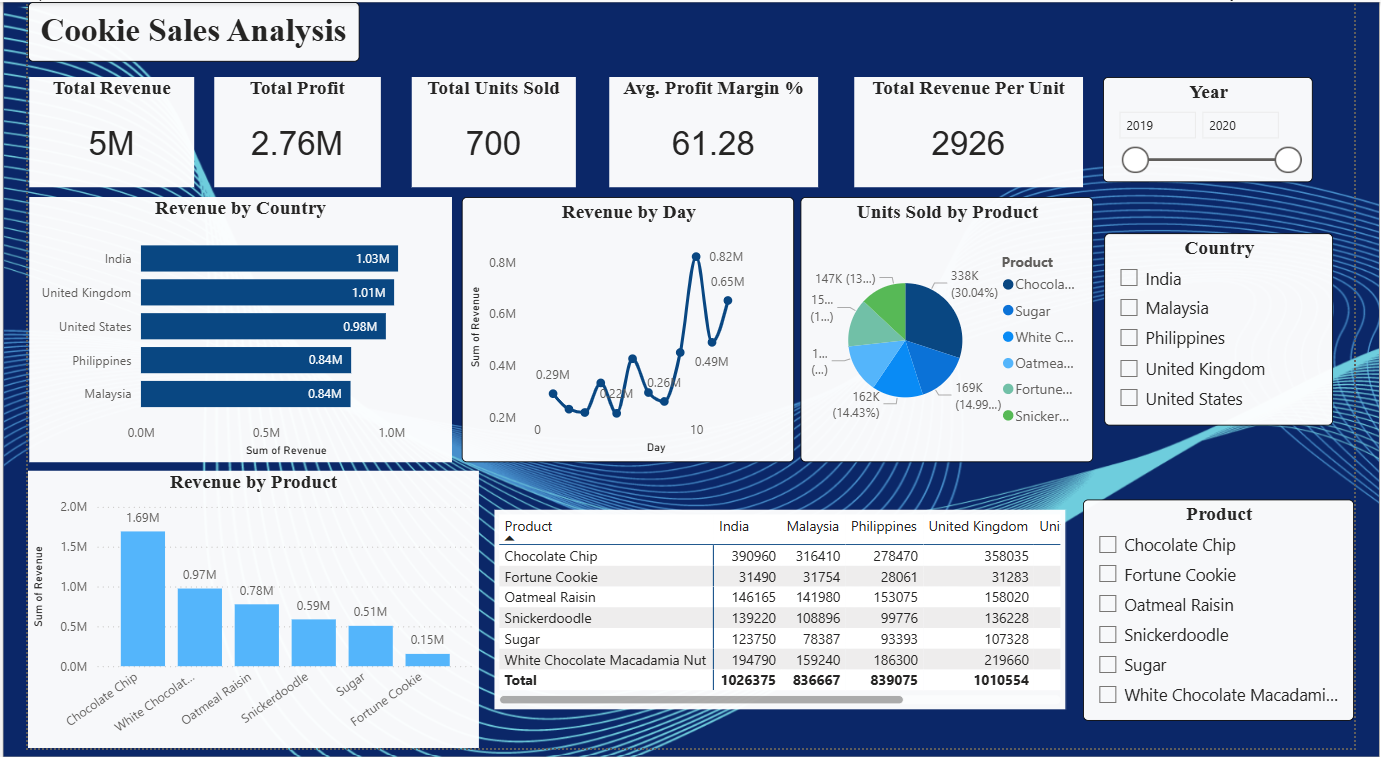

Layout of this report page (visuals, bound fields, positions):
{"tool":"powerbi","page":{"name":"Page 1","canvas":[1280,720],"ordinal":0},"visuals":[{"type":"card","title":"Total Revenue","fields":{"Values":["Sum(Cookie_Sales_Clean.Revenue)"]},"box":[1.2,72.4,159.3,106.2],"z":1},{"type":"textbox","box":[0,0,319.7,57.9],"z":2},{"type":"card","title":"Total Profit","fields":{"Values":["Sum(Cookie_Sales_Clean.Profit)"]},"box":[179.8,72.4,160.5,106.2],"z":3},{"type":"card","title":"Total Units Sold","fields":{"Values":["CountNonNull(Cookie_Sales_Clean.Units Sold)"]},"box":[370.4,72.4,158,106.2],"z":4},{"type":"card","title":"Avg. Profit Margin %","fields":{"Values":["Avg(Cookie_Sales_Clean.Profit_Margin_Pct)"]},"box":[561,72.4,201.5,106.2],"z":5},{"type":"card","title":"Total Revenue Per Unit","fields":{"Values":["Sum(Cookie_Sales_Clean.Revenue_per_Unit)"]},"box":[797.5,72.4,220.8,106.2],"z":6},{"type":"clusteredBarChart","title":"Revenue by Country","fields":{"Category":["Cookie_Sales_Clean.Country"],"Y":["Sum(Cookie_Sales_Clean.Revenue)"]},"box":[1.2,188.2,407.8,255.8],"z":7},{"type":"columnChart","title":"Revenue by Product","fields":{"Category":["Cookie_Sales_Clean.Product"],"Y":["Sum(Cookie_Sales_Clean.Revenue)"]},"box":[0,452.4,435.5,267.8],"z":8},{"type":"slicer","title":"Year","fields":{"Values":["Cookie_Sales_Clean.Year"]},"box":[1037.5,72.4,202.7,101.3],"z":9},{"type":"slicer","title":"Country","fields":{"Values":["Cookie_Sales_Clean.Country"]},"box":[1038.7,223.2,220.8,185.8],"z":10},{"type":"slicer","title":"Product","fields":{"Values":["Cookie_Sales_Clean.Product"]},"box":[1018.2,480.2,261.8,213.5],"z":11},{"type":"pieChart","title":"Units Sold by Product","fields":{"Y":["Sum(Cookie_Sales_Clean.Units Sold)"],"Category":["Cookie_Sales_Clean.Product"]},"box":[745.6,188.2,282.3,255.8],"z":12},{"type":"lineChart","title":"Revenue by Day","fields":{"Y":["Sum(Cookie_Sales_Clean.Revenue)"],"Category":["Cookie_Sales_Clean.Date.Variation.Date Hierarchy.Day"]},"box":[418.6,188.2,320.9,255.8],"z":13},{"type":"pivotTable","fields":{"Columns":["Cookie_Sales_Clean.Country"],"Values":["Sum(Cookie_Sales_Clean.Revenue)"],"Rows":["Cookie_Sales_Clean.Product"]},"box":[450,489.8,551.3,193],"z":14}]}

Visuals, with their boxes in screenshot pixels (x1, y1, x2, y2), scaled from the page's 1280x720 canvas onto the 1381x757 screenshot:
"Total Revenue" card: bbox=[1, 76, 173, 188]
textbox: bbox=[0, 0, 345, 61]
"Total Profit" card: bbox=[194, 76, 367, 188]
"Total Units Sold" card: bbox=[400, 76, 570, 188]
"Avg. Profit Margin %" card: bbox=[605, 76, 823, 188]
"Total Revenue Per Unit" card: bbox=[860, 76, 1099, 188]
"Revenue by Country" clusteredBarChart: bbox=[1, 198, 441, 467]
"Revenue by Product" columnChart: bbox=[0, 476, 470, 756]
"Year" slicer: bbox=[1119, 76, 1338, 183]
"Country" slicer: bbox=[1121, 235, 1359, 430]
"Product" slicer: bbox=[1099, 505, 1380, 729]
"Units Sold by Product" pieChart: bbox=[804, 198, 1109, 467]
"Revenue by Day" lineChart: bbox=[452, 198, 798, 467]
pivotTable - Cookie_Sales_Clean.Country x Sum(Cookie_Sales_Clean.Revenue): bbox=[486, 515, 1080, 718]
